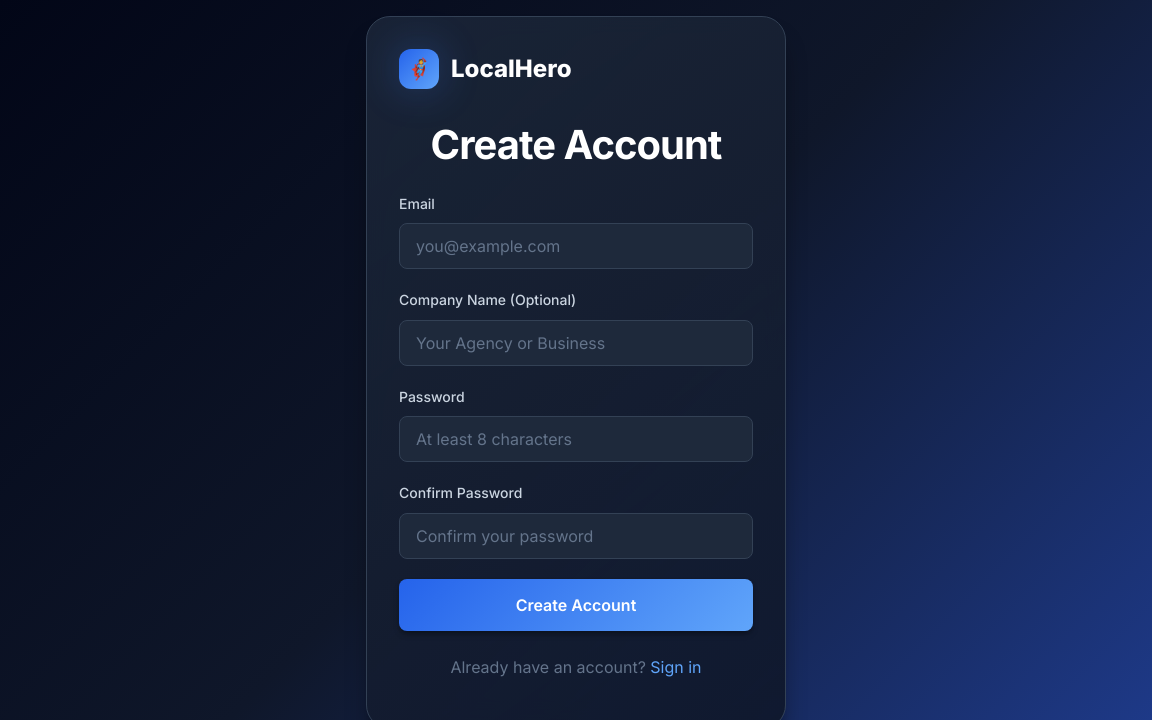
Register › shows error for short password
The image size is (1152, 720).
Step 1. Type "test@example.com" into the field labelled "Email" → (576, 246), box top-left (399, 223), bottom-right (753, 269)
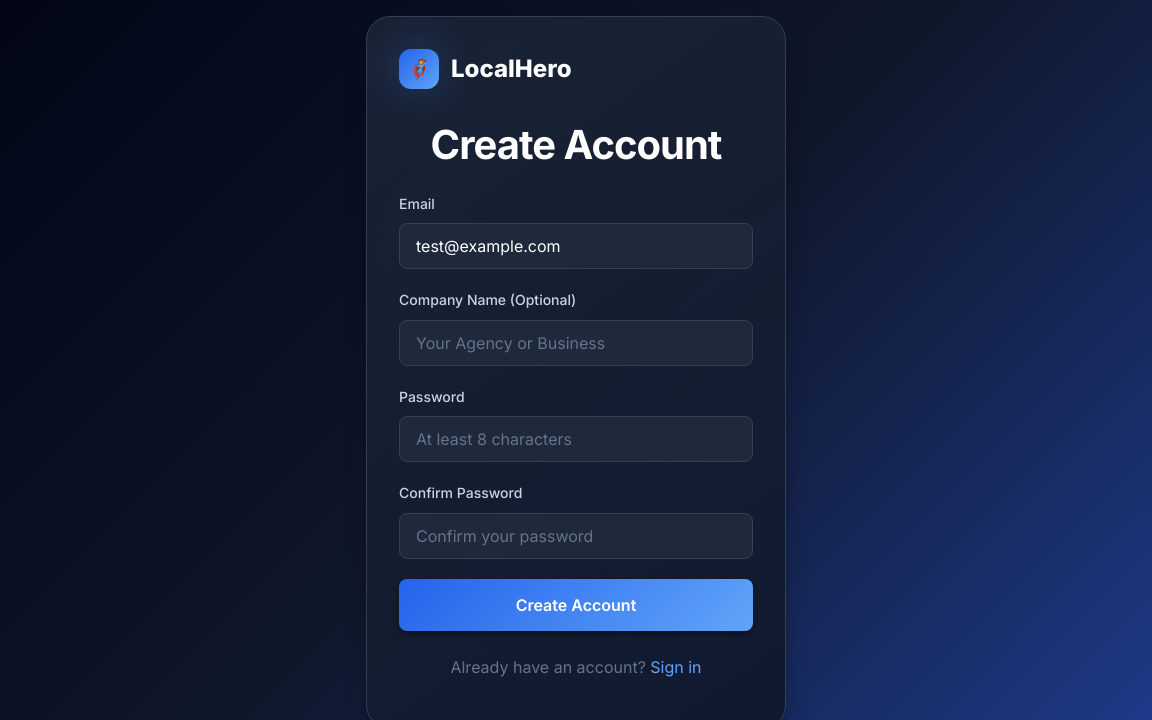
Step 2. Type "short" into the password field labelled "Password" → (576, 439), box top-left (399, 416), bottom-right (753, 462)
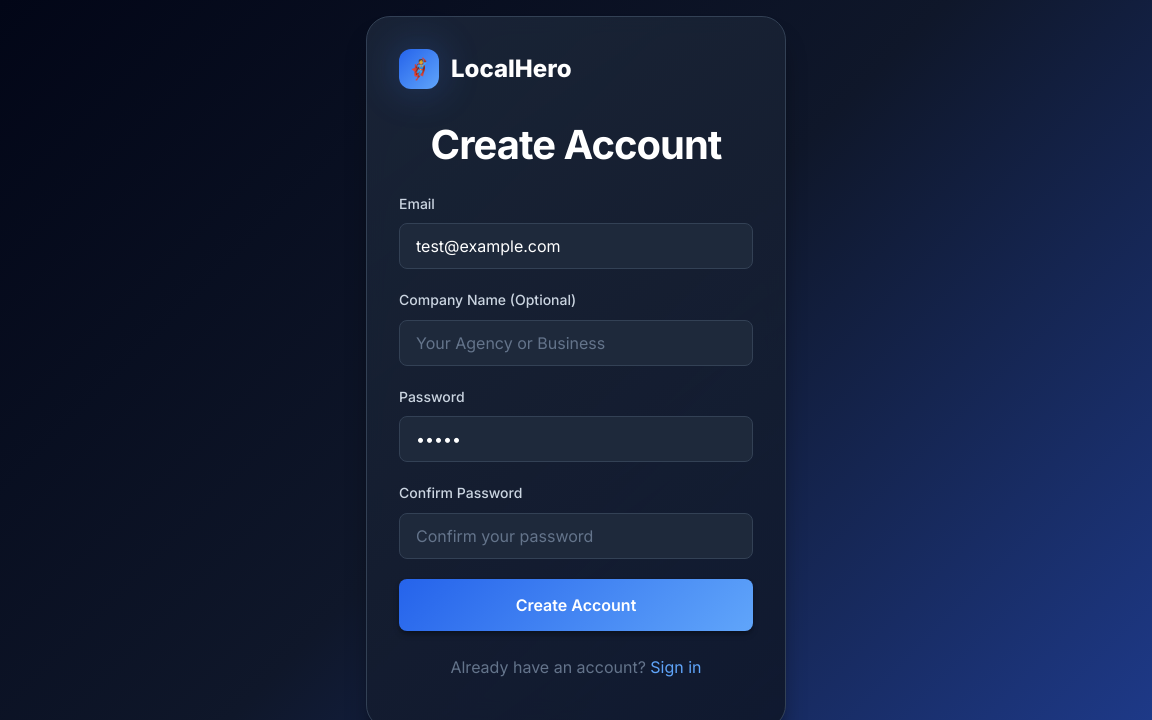
Step 3. Type "short" into the password field labelled "Confirm Password" → (576, 536), box top-left (399, 513), bottom-right (753, 559)
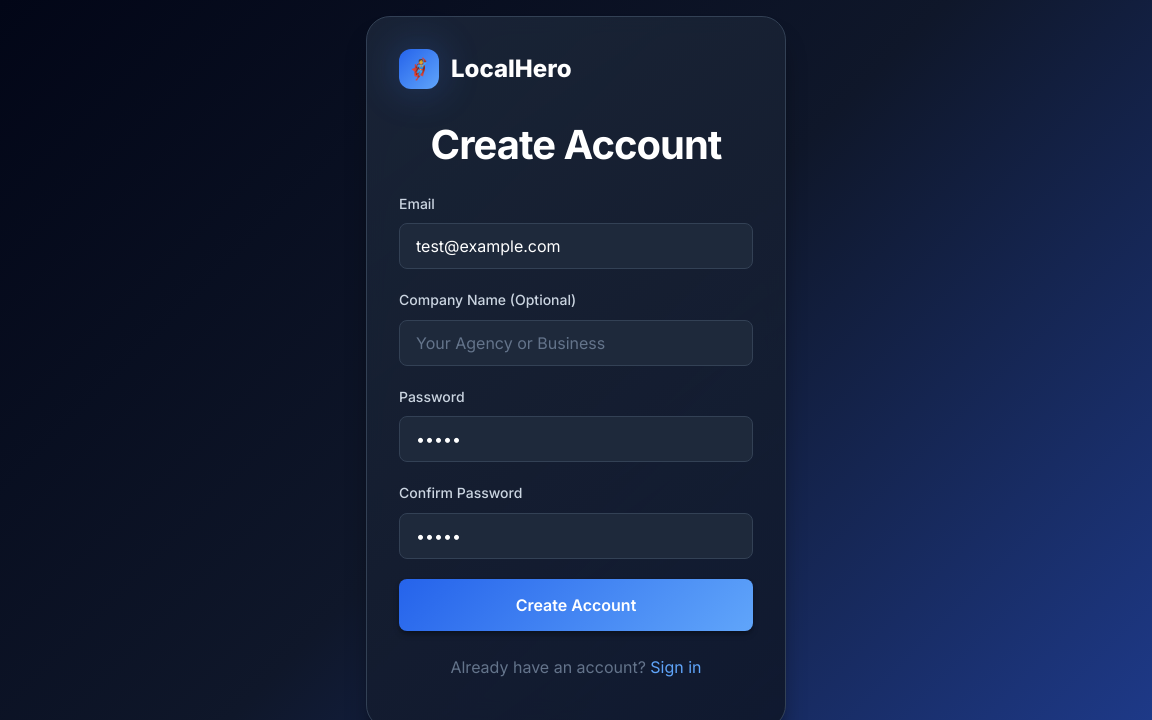
Step 4. Click the button "Create Account" → (576, 605), box top-left (399, 579), bottom-right (753, 631)
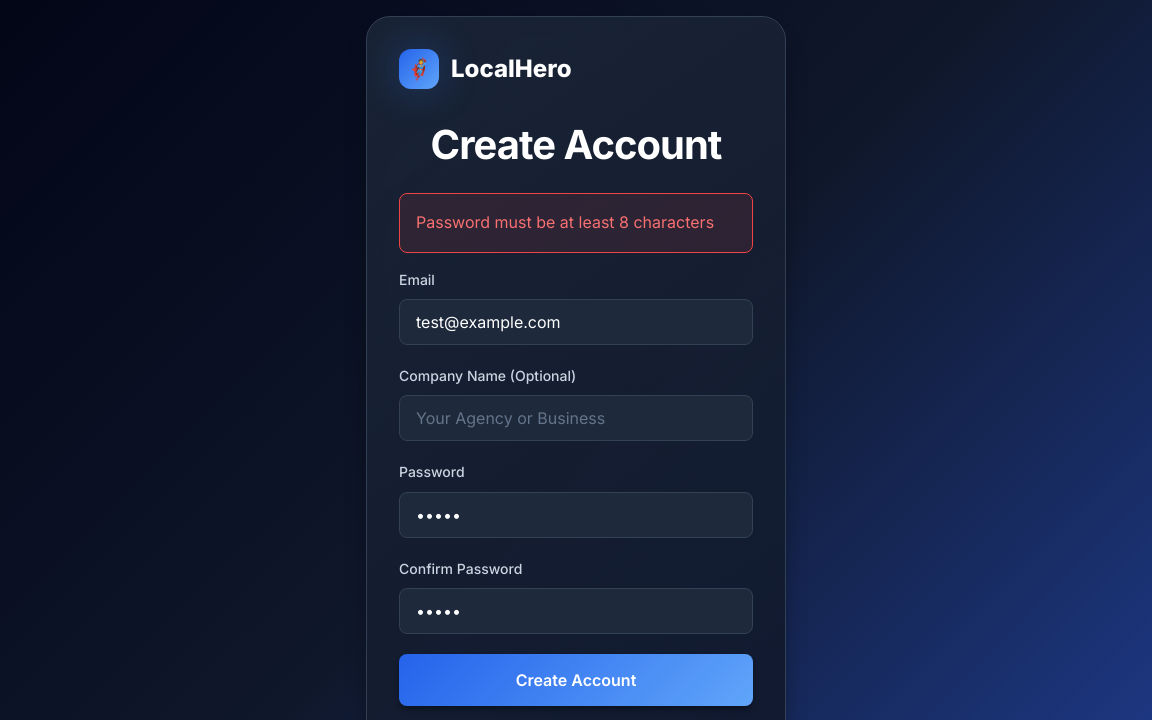
Expected: the text "Password must be at least 8 characters" is shown, top-left (399, 193), bottom-right (753, 253)
